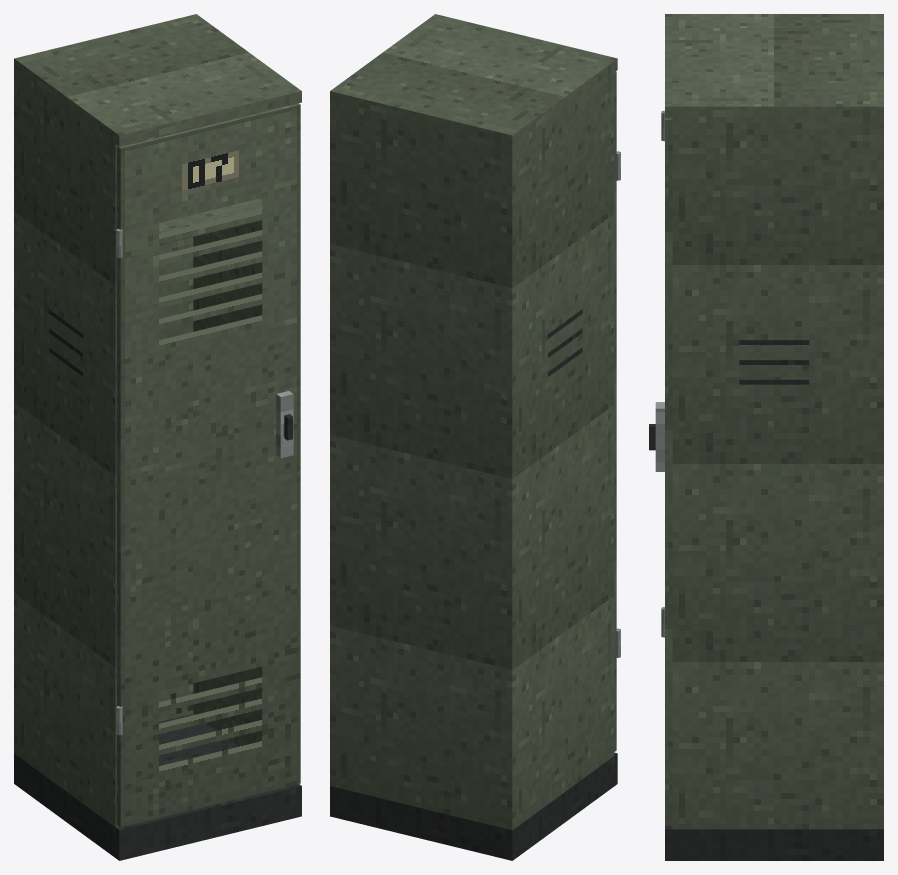
Rendered from locker.glb.
The picture shows the model from 3 angles, left to right: view 1: azimuth 30°, elevation 25°; view 2: azimuth 150°, elevation 25°; view 3: azimuth 270°, elevation 25°; orthographic projection. The views are drawn at different scales.
Parts seen in each view (by area): view 1: Door, Locker; view 2: Locker, Door; view 3: Locker, Door.
Part boxes in pixels (bbox=[...]): Door: bbox=[116, 103, 300, 827]; Locker: bbox=[14, 14, 301, 860]; Locker: bbox=[330, 14, 617, 860]; Door: bbox=[614, 71, 620, 751]; Locker: bbox=[665, 14, 883, 860]; Door: bbox=[649, 110, 672, 825].
Size of the model in its own units: 0.5095 by 1.9 by 0.536.
4 materials, 4 textured.
